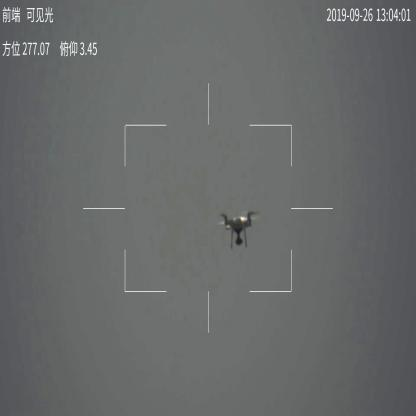uav: (218, 207, 258, 250)
